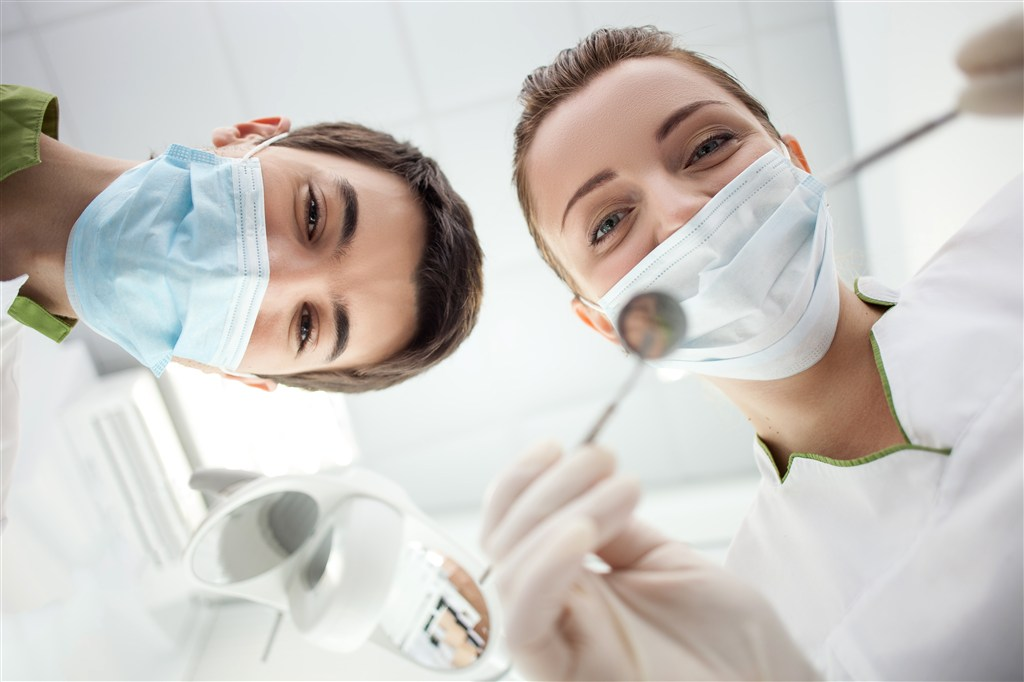mask: (599, 149, 840, 384), (63, 142, 271, 381)
